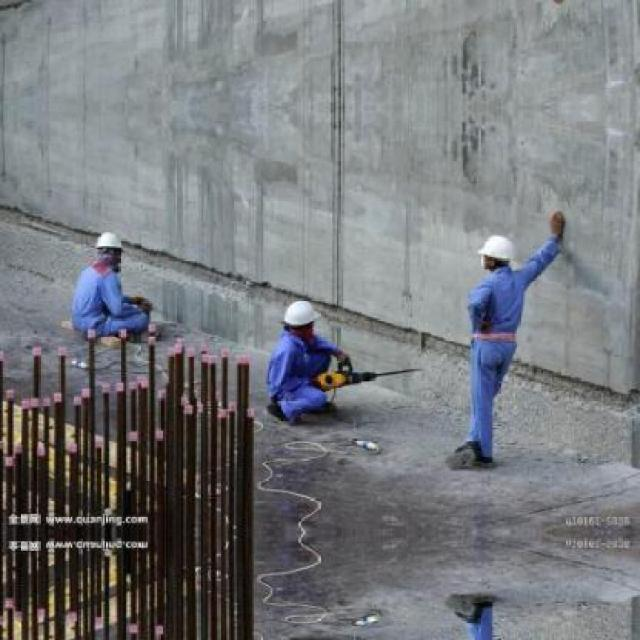helmet: (278, 294, 322, 329), (478, 226, 516, 265), (94, 229, 123, 254)
